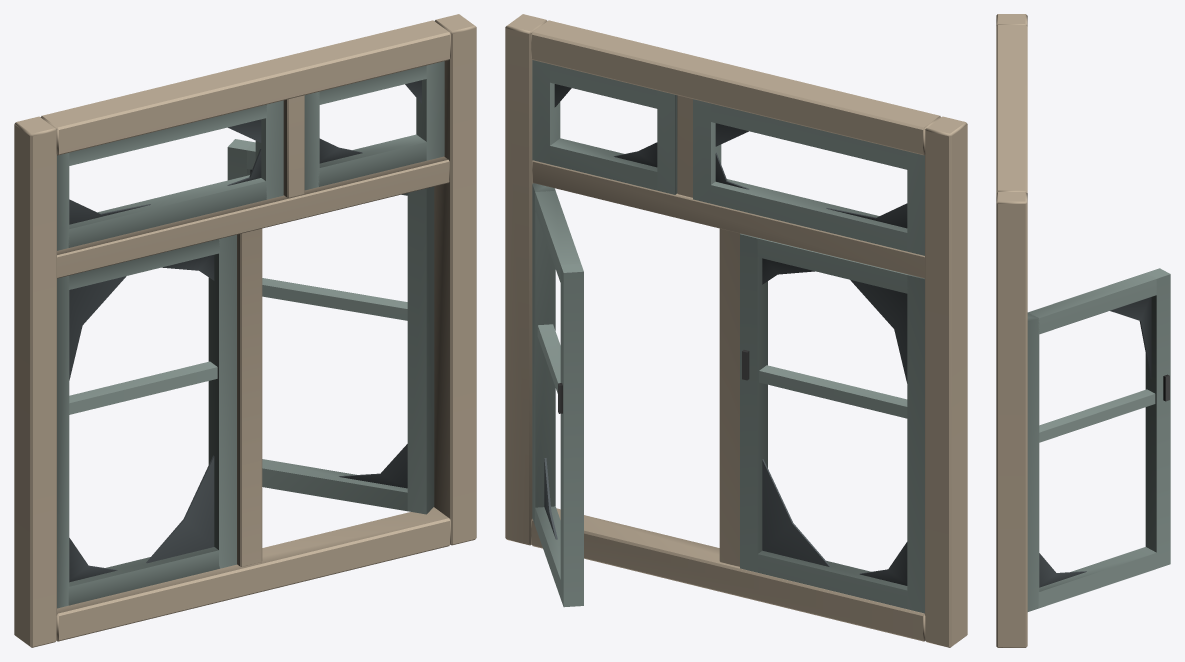
Rendered from window_sash_broken.glb.
3 renders of one model, left to right at view 1: azimuth 30°, elevation 25°; view 2: azimuth 150°, elevation 25°; view 3: azimuth 270°, elevation 25°, orthographic. The views are drawn at different scales.
Visible parts, largest first — view 1: frame, leaf_l, leaf_r, fortochka; view 2: frame, leaf_l, leaf_r, fortochka; view 3: frame, leaf_r.
Boxes of the visible parts, bbox=[...] form: frame: bbox=[14, 14, 476, 647]; leaf_l: bbox=[57, 234, 236, 608]; leaf_r: bbox=[227, 139, 434, 514]; fortochka: bbox=[57, 100, 283, 250]; frame: bbox=[505, 14, 967, 647]; leaf_l: bbox=[740, 233, 924, 613]; leaf_r: bbox=[532, 183, 583, 607]; fortochka: bbox=[693, 99, 924, 255]; frame: bbox=[996, 14, 1027, 647]; leaf_r: bbox=[1027, 268, 1170, 611].
Bounding box in the file's own units: 1 × 1.1 × 0.3901.
